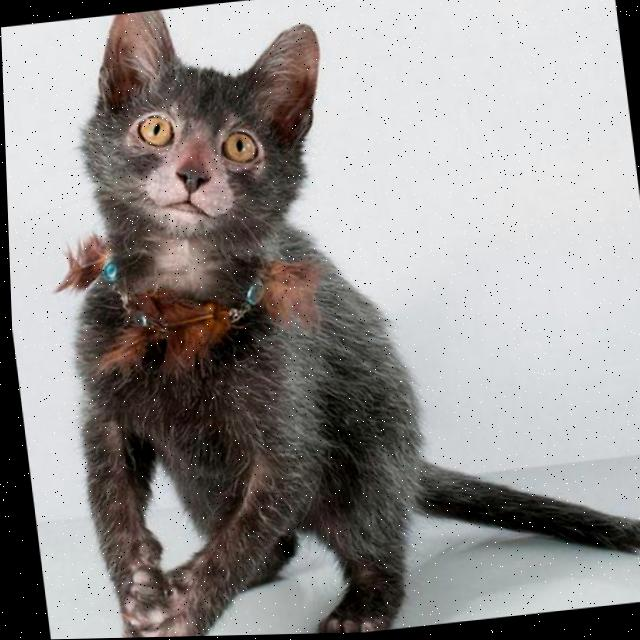Lykoi: (21, 0, 640, 640)
